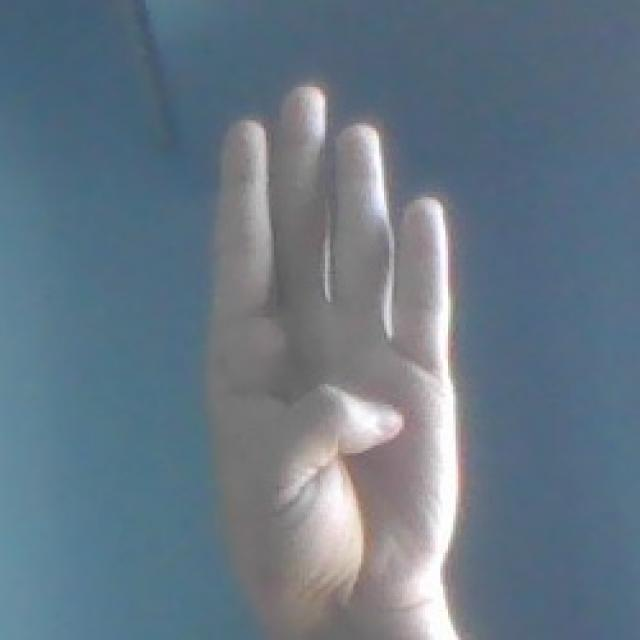Numeric-4: (202, 77, 466, 599), (539, 517, 539, 518)
